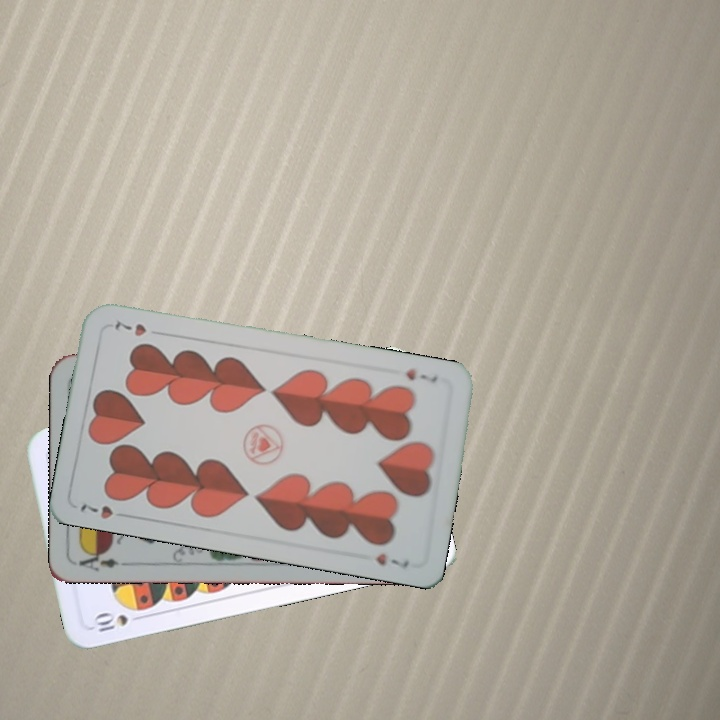EA: (75, 547, 133, 574)
H7: (76, 499, 132, 522), (401, 364, 440, 386)
S10: (89, 609, 147, 635)
